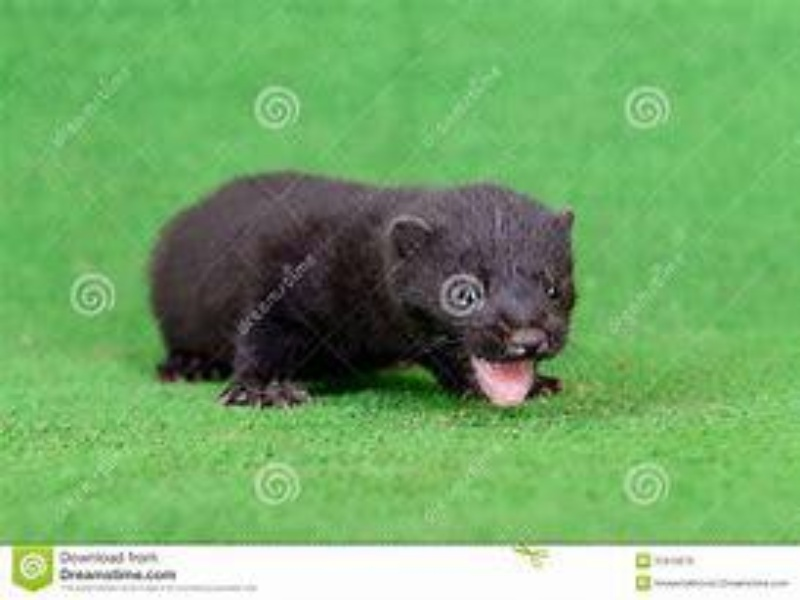minkish: (145, 166, 578, 409)
